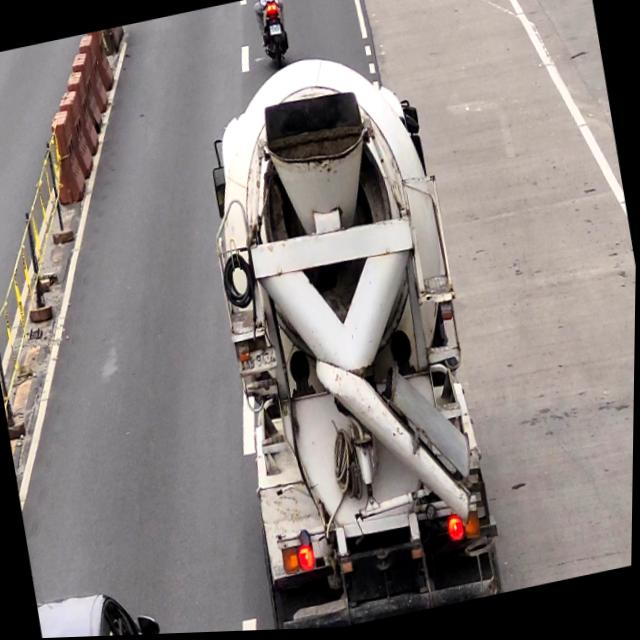Car: (38, 581, 167, 639)
License-Plate: (267, 24, 283, 40)
Motorcycle: (252, 0, 294, 68)
Truck: (192, 37, 507, 634)
